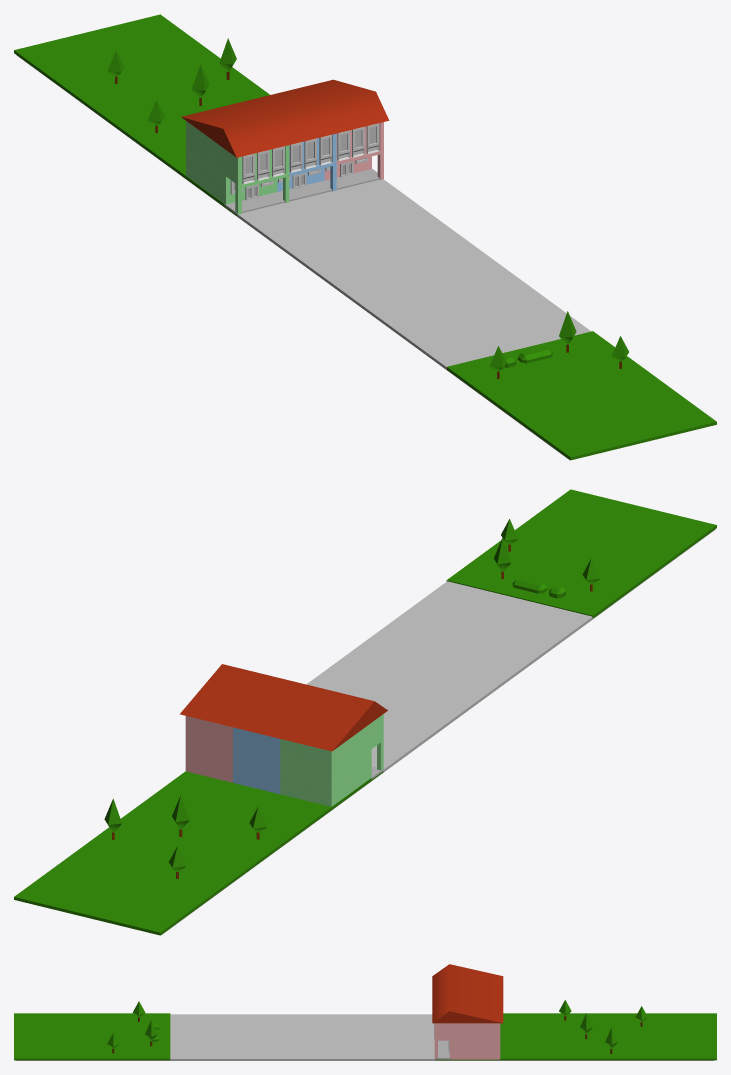
The model's file is Level 1 Chunk 1.fbx.
3 views of the same model, one above another, from view 1: azimuth 30°, elevation 25°; view 2: azimuth 150°, elevation 25°; view 3: azimuth 270°, elevation 25° (orthographic). The views are drawn at different scales.
Parts seen in each view (by area): view 1: pCube2225, Triple_shop_houses3, pCube2214, pCube2224; view 2: pCube2224, pCube2225, Triple_shop_houses3, pCube2214; view 3: pCube2225, pCube2224, pCube2214, Triple_shop_houses3.
Boxes of the visible parts, x1=… form: pCube2225: x1=17, y1=55, x2=591, y2=460; Triple_shop_houses3: x1=181, y1=79, x2=389, y2=214; pCube2214: x1=447, y1=331, x2=716, y2=460; pCube2224: x1=14, y1=14, x2=269, y2=215; pCube2224: x1=14, y1=771, x2=383, y2=935; pCube2225: x1=162, y1=529, x2=715, y2=934; Triple_shop_houses3: x1=180, y1=664, x2=387, y2=806; pCube2214: x1=446, y1=489, x2=716, y2=618; pCube2225: x1=15, y1=1014, x2=714, y2=1060; pCube2224: x1=435, y1=1013, x2=716, y2=1060; pCube2214: x1=14, y1=1013, x2=170, y2=1060; Triple_shop_houses3: x1=432, y1=964, x2=503, y2=1059.
Bounding box in the file's own units: 6.39 × 3.23 × 40.34.
1 material, 1 textured.
